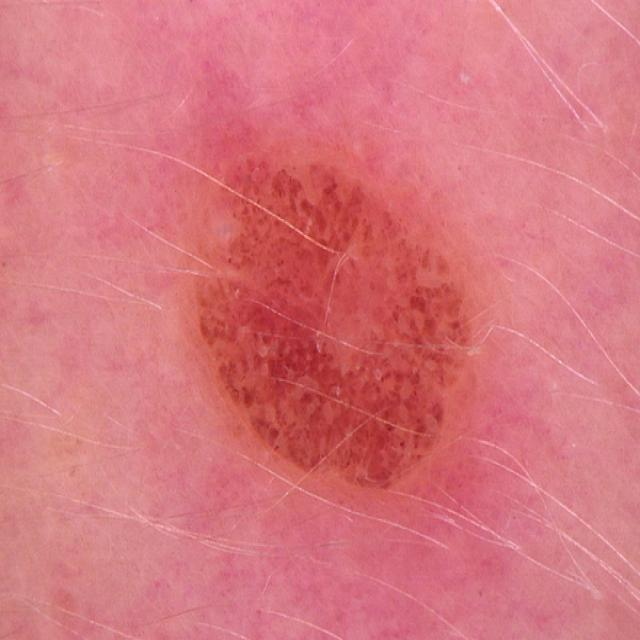NV: (182, 138, 477, 492)
